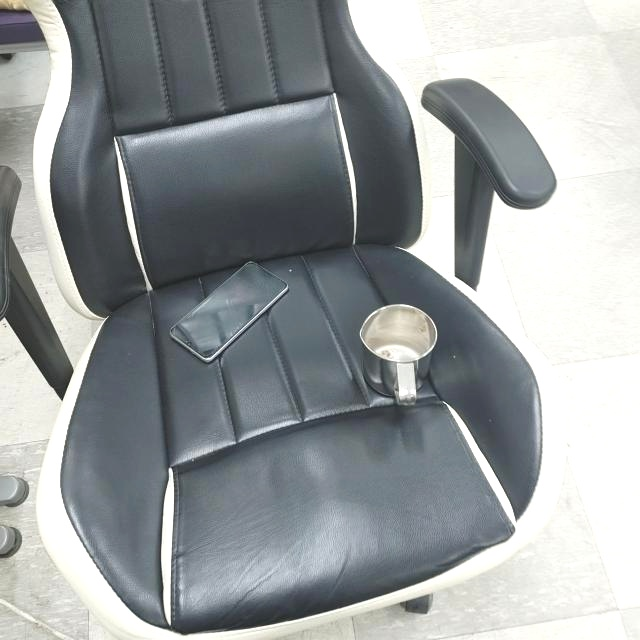cup: (358, 301, 438, 407)
phone: (172, 260, 290, 365)
